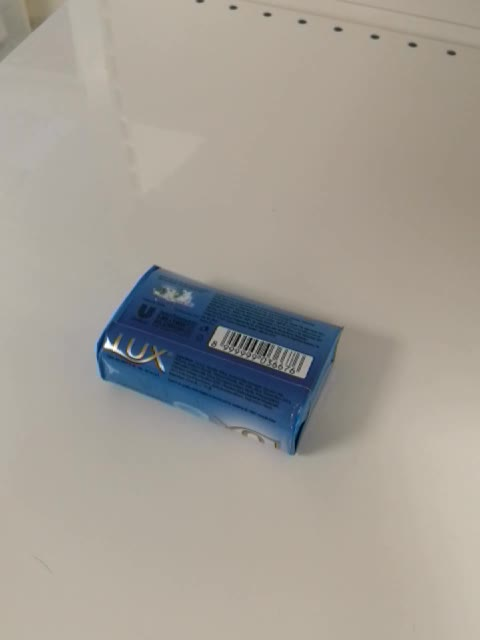soap: (92, 264, 344, 457)
